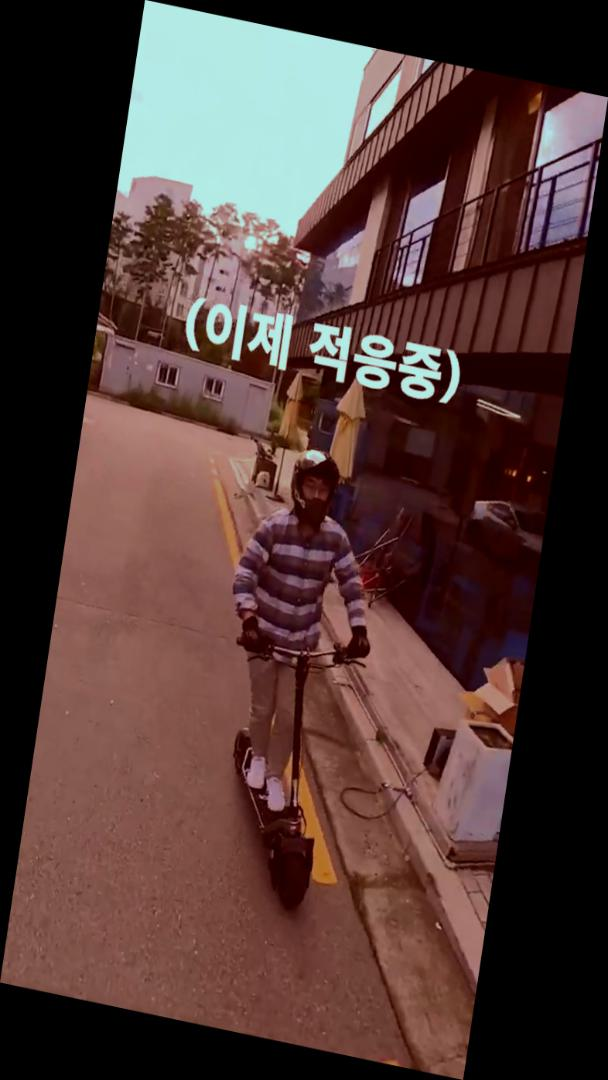helmet: (185, 434, 398, 926)
